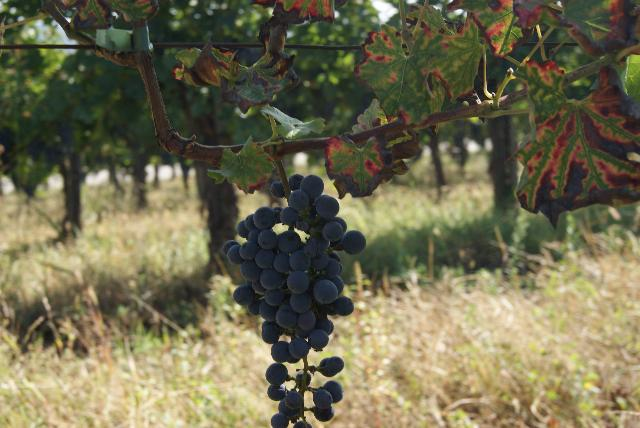grapes: (225, 175, 365, 428)
